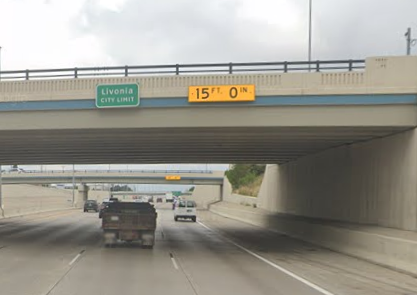0: (227, 84, 239, 100)
1: (194, 85, 200, 100)
5: (199, 86, 210, 100)
overheadsign: (187, 83, 256, 103)
